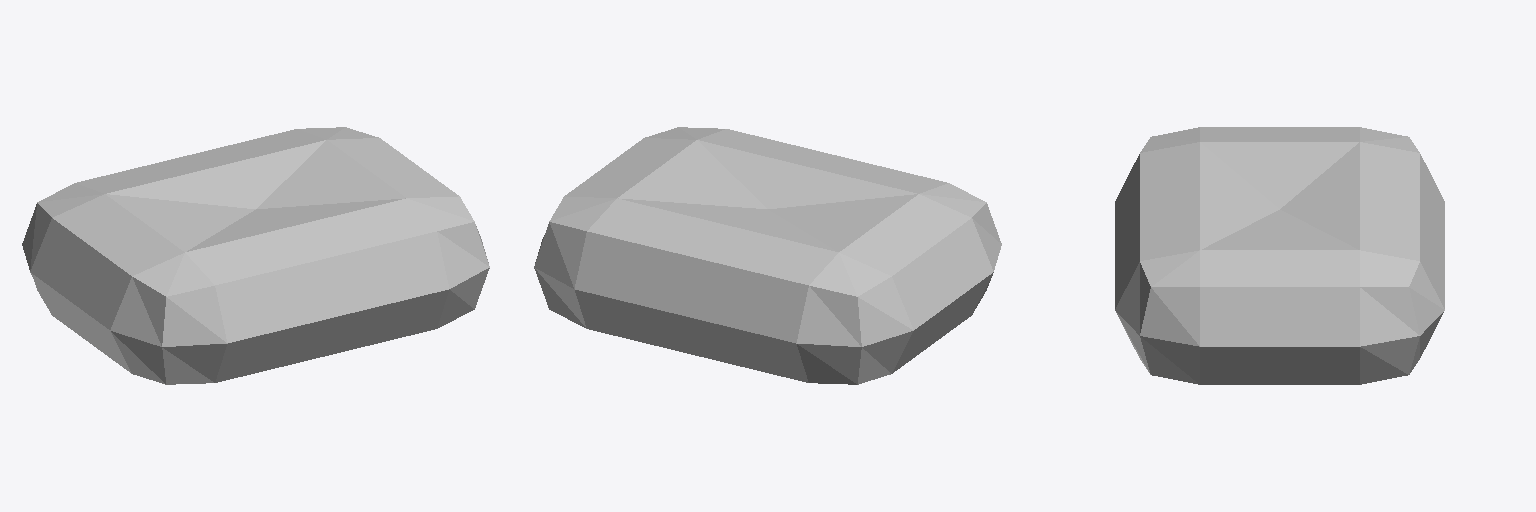
File: pillow_B.obj
3 renders of one model, left to right at view 1: azimuth 30°, elevation 25°; view 2: azimuth 150°, elevation 25°; view 3: azimuth 270°, elevation 25°, orthographic.
Visible parts, largest first — view 1: pillow_B_Cube.019; view 2: pillow_B_Cube.019; view 3: pillow_B_Cube.019.
Part boxes in pixels (x1,y1,x2,y2): pillow_B_Cube.019: (22, 127, 489, 384); pillow_B_Cube.019: (534, 127, 1001, 384); pillow_B_Cube.019: (1115, 127, 1444, 384).
Bounding box in the file's own units: 0.65 × 0.2 × 0.5.